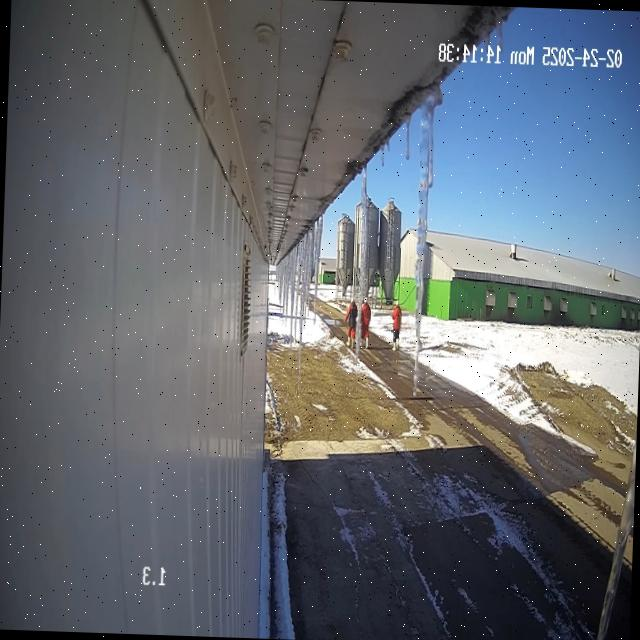Red uniform: (360, 297, 371, 348), (344, 301, 357, 341), (392, 301, 401, 350)
